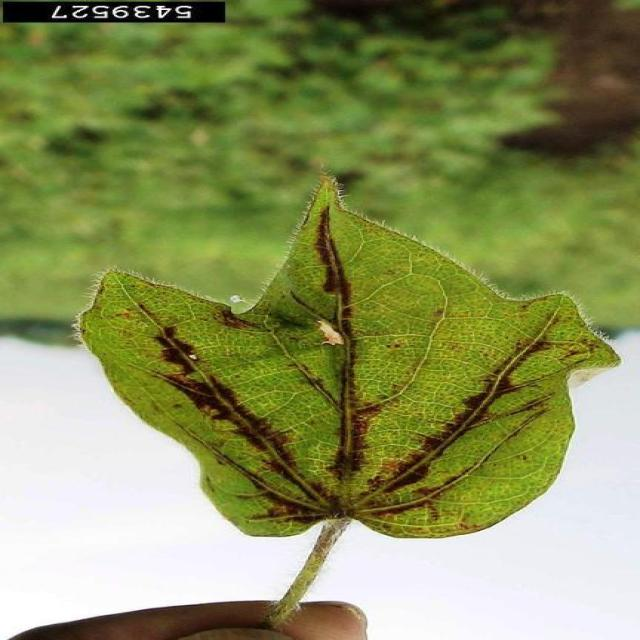Bacterial Blight: (163, 309, 535, 509)
